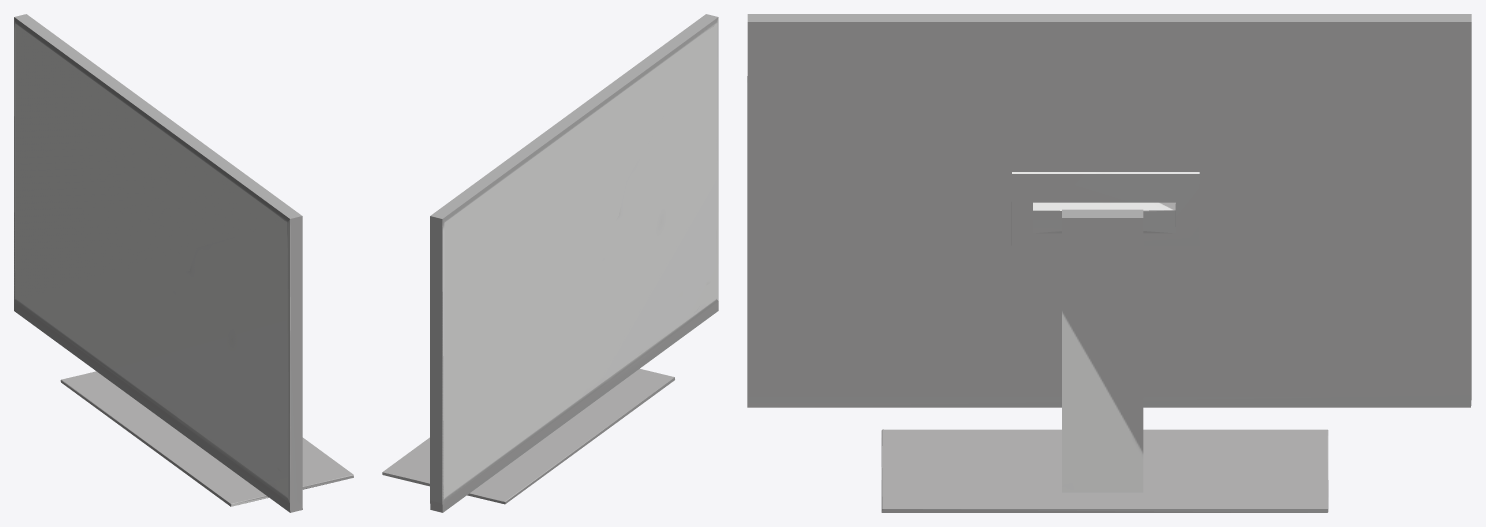
The picture shows the model from 3 angles, left to right: view 1: azimuth 30°, elevation 25°; view 2: azimuth 150°, elevation 25°; view 3: azimuth 270°, elevation 25°; orthographic projection. The views are drawn at different scales.
Parts seen in each view (by area): view 1: 281911_23_05_24_13_23_19; view 2: 281911_23_05_24_13_23_19; view 3: 281911_23_05_24_13_23_19.
Part boxes in pixels (x1,y1,x2,y2): 281911_23_05_24_13_23_19: [14, 14, 353, 512]; 281911_23_05_24_13_23_19: [382, 14, 718, 512]; 281911_23_05_24_13_23_19: [747, 14, 1471, 512].
Bounding box in the file's own units: 8 × 20.12 × 31.06.
1 material, 1 textured.
